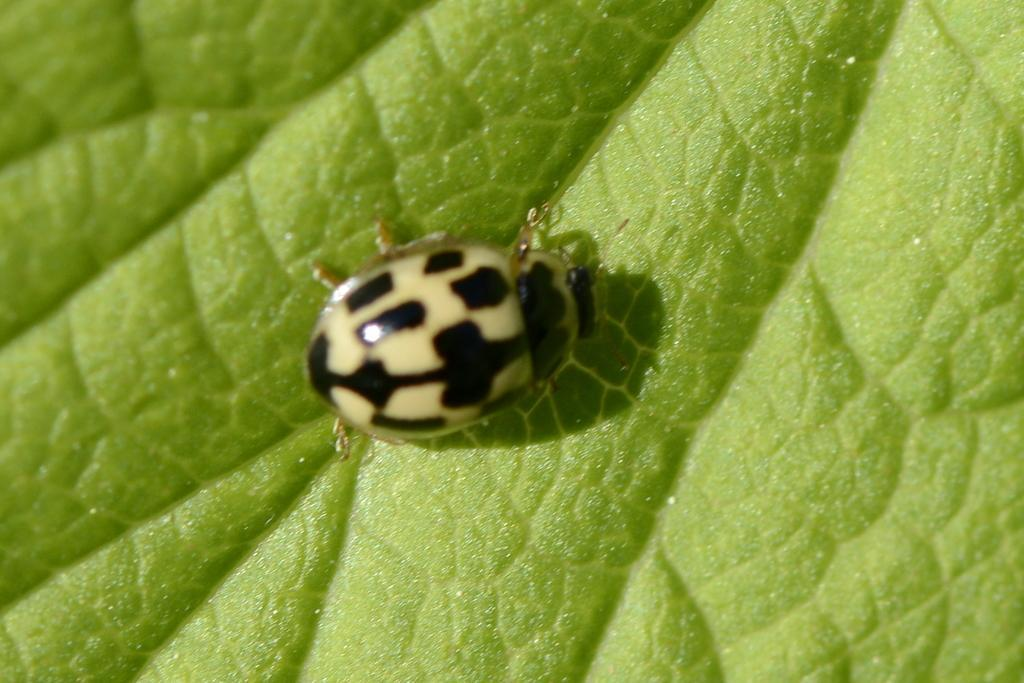ladybug: (303, 195, 605, 465)
